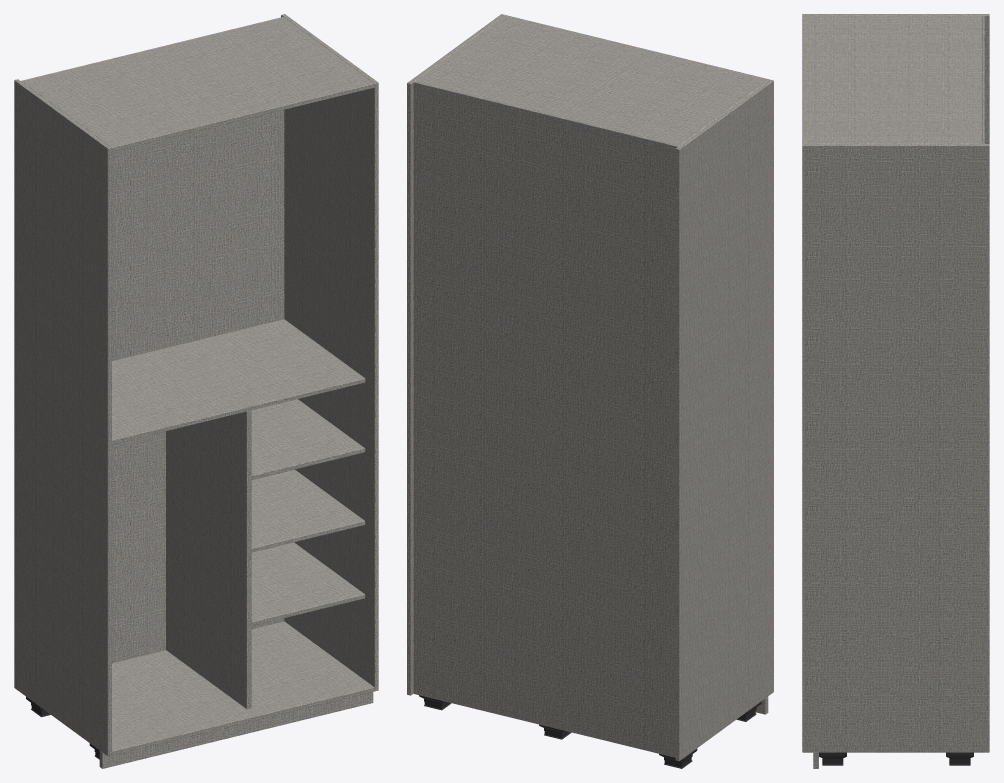
File: cbib12123.gltf
3 views of the same model, side by side, from view 1: azimuth 30°, elevation 25°; view 2: azimuth 150°, elevation 25°; view 3: azimuth 270°, elevation 25° (orthographic).
Parts seen in each view (by area): view 1: CBIB12123; view 2: CBIB12123; view 3: CBIB12123.
Boxes of the visible parts, x1,y1,x2,y2 form: CBIB12123: [14, 14, 378, 768]; CBIB12123: [407, 14, 773, 768]; CBIB12123: [802, 14, 989, 768].
Size of the model in its own units: 1 by 2.2 by 0.6.
3 materials, 2 textured.
